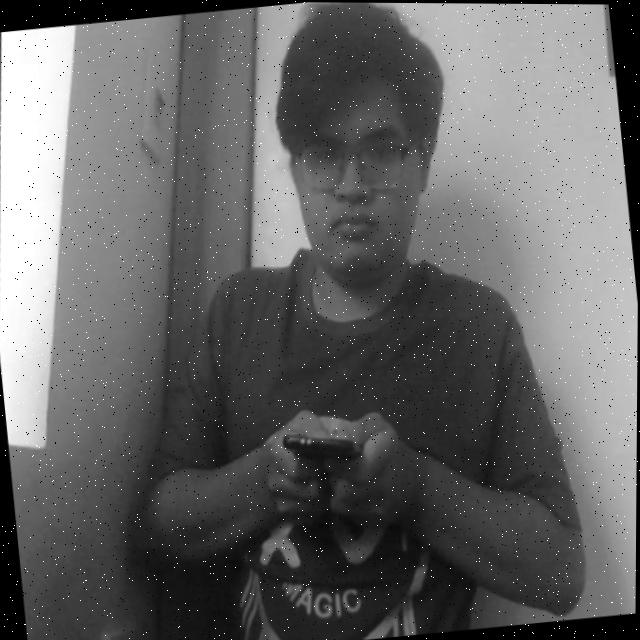phone: (267, 392, 386, 495)
